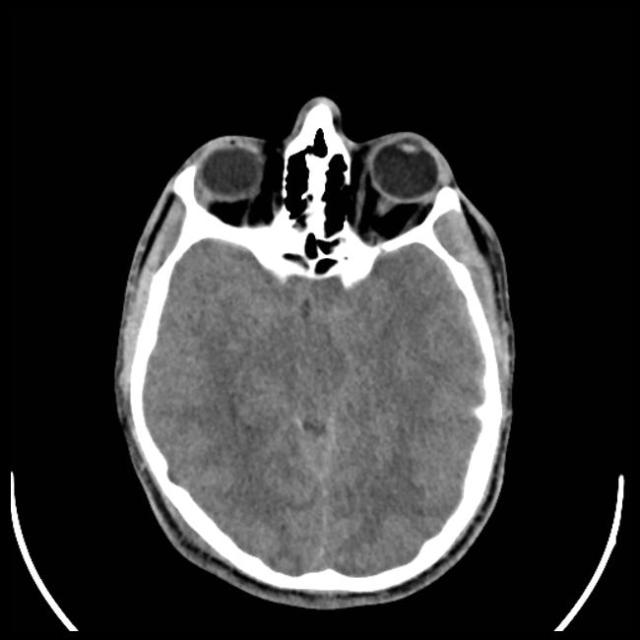lesion: (109, 92, 520, 606)
